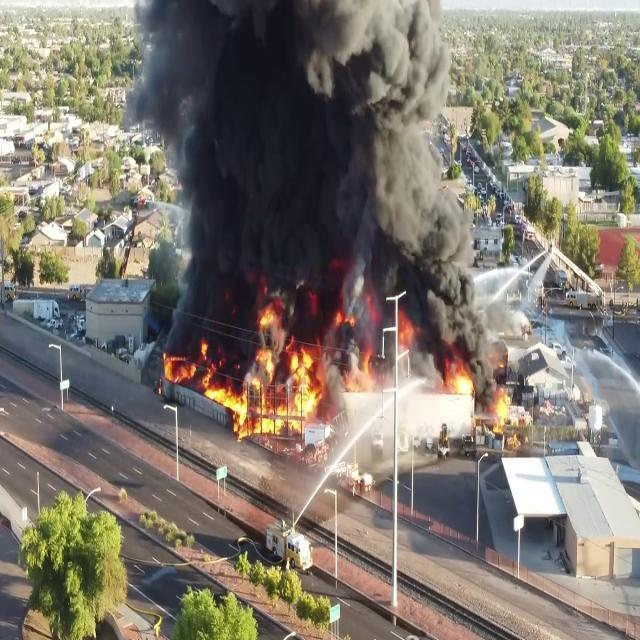Fire: (166, 308, 330, 442), (487, 380, 517, 430), (442, 354, 474, 396)
Smoke: (142, 0, 474, 358)
